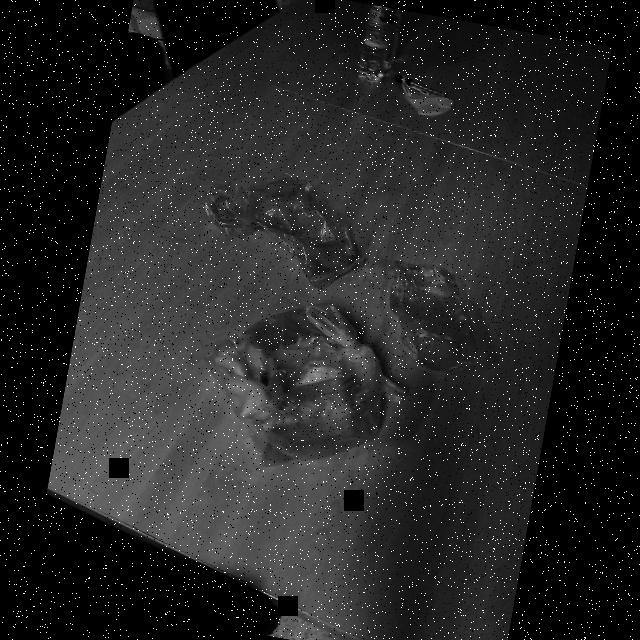plastic_bag: (188, 290, 414, 490), (193, 156, 393, 296), (374, 249, 495, 395)
plastic_bottle: (348, 3, 406, 96)
